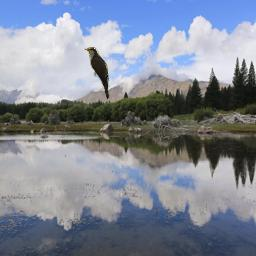Cuckoo: (84, 47, 110, 100)
